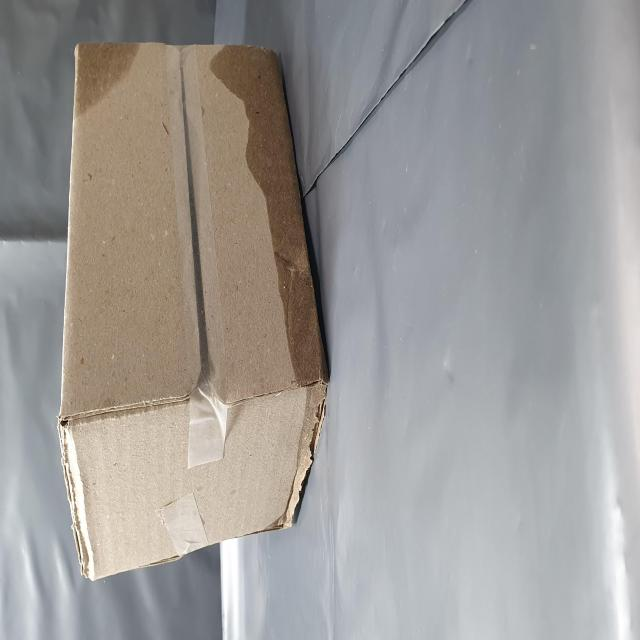wet: (136, 379, 338, 583), (290, 136, 344, 244)
